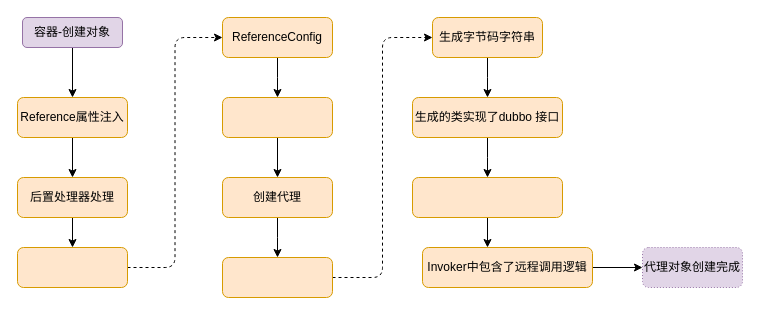
The diagram is 760 pixels wide and 315 high, and some of its shapes have lost their labels. The centre of each missing label's shape, as x and y in pixels:
"ProxyFacoty" belongs at (277,277).
"ReferenceBean" belongs at (72,267).
"封装了Invoker对象" belongs at (487,197).
"校验，组装参数" belongs at (277,117).
